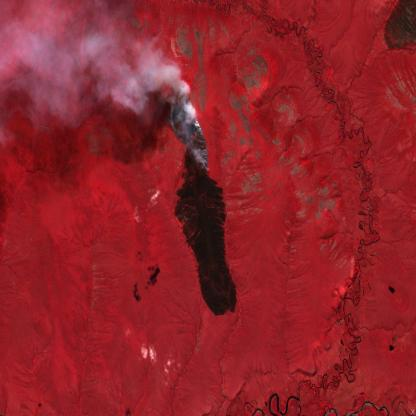fire: (158, 87, 217, 178)
